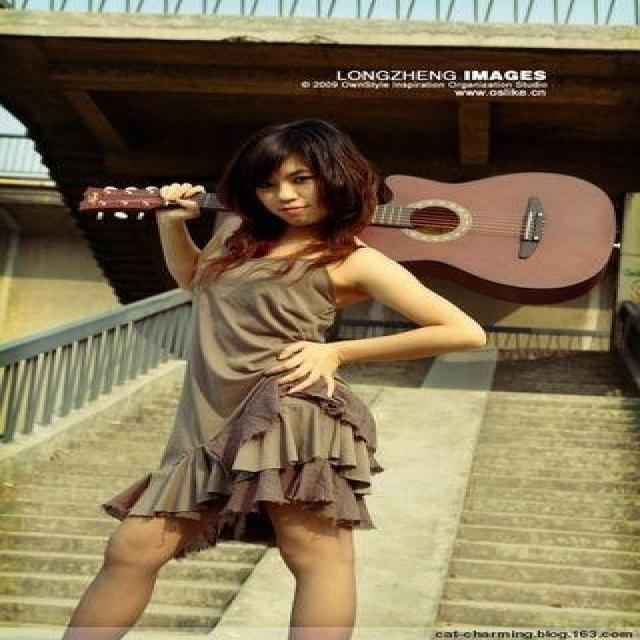guitar: (68, 165, 628, 306)
